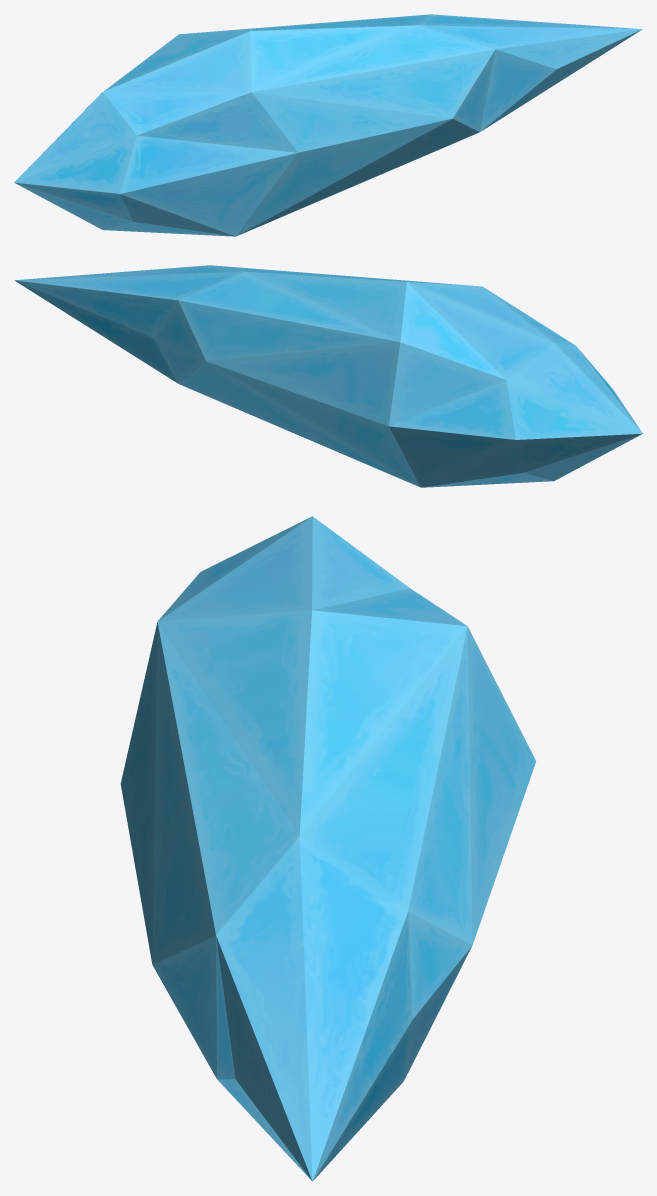
File: ice-projectile.glb
The picture shows the model from 3 angles, top to bottom: view 1: azimuth 30°, elevation 25°; view 2: azimuth 150°, elevation 25°; view 3: azimuth 270°, elevation 25°; orthographic projection. The views are drawn at different scales.
Visible parts, largest first — view 1: ice_2; view 2: ice_2; view 3: ice_2.
Boxes of the visible parts, left/top/right/bottom form: ice_2: left=14, top=14, right=642, bottom=236; ice_2: left=14, top=265, right=642, bottom=487; ice_2: left=120, top=516, right=536, bottom=1181.
Bounding box in the file's own units: 2.01 × 0.583 × 0.5756.
1 material, 1 textured.
